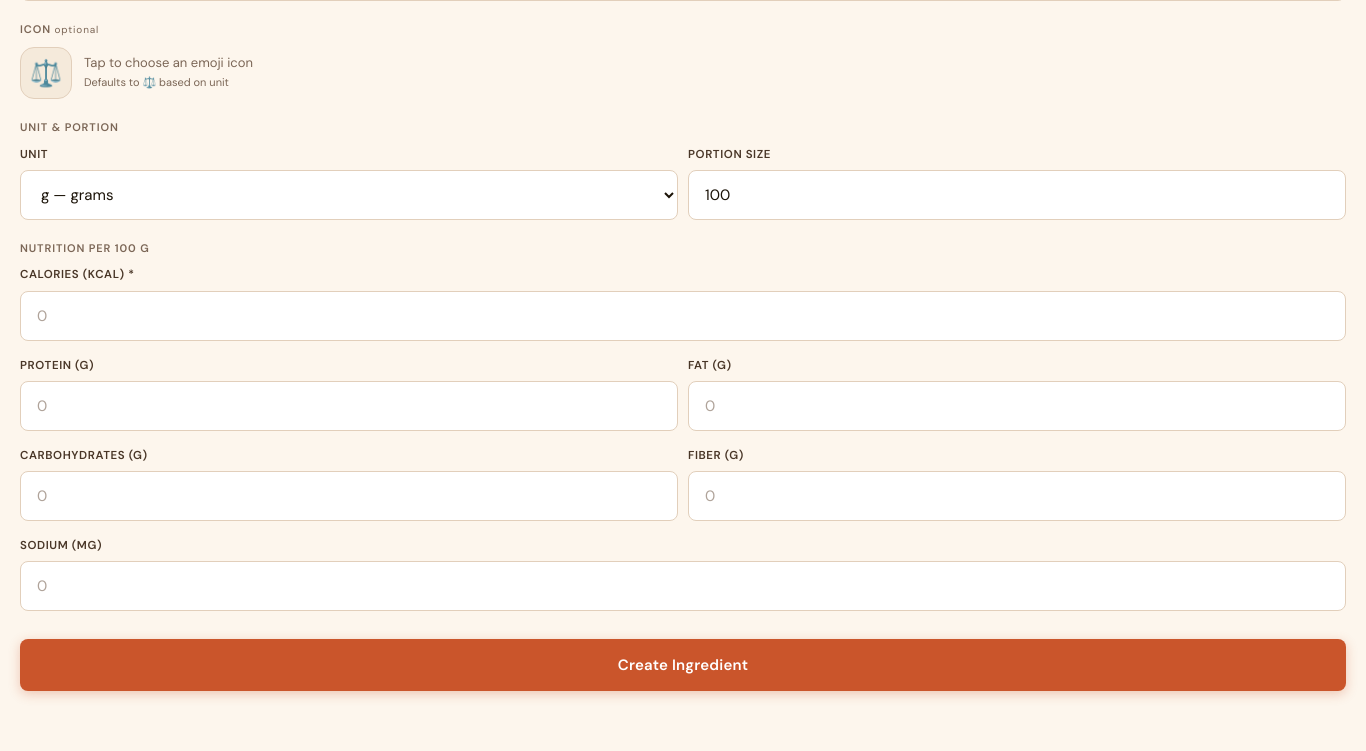
CustomIngredientFormPage — create form › shows validation errors when submitting an empty form
(page scrolled)
Click the button "Create Ingredient". click: [683, 665]
box: 20,639 -> 1346,691
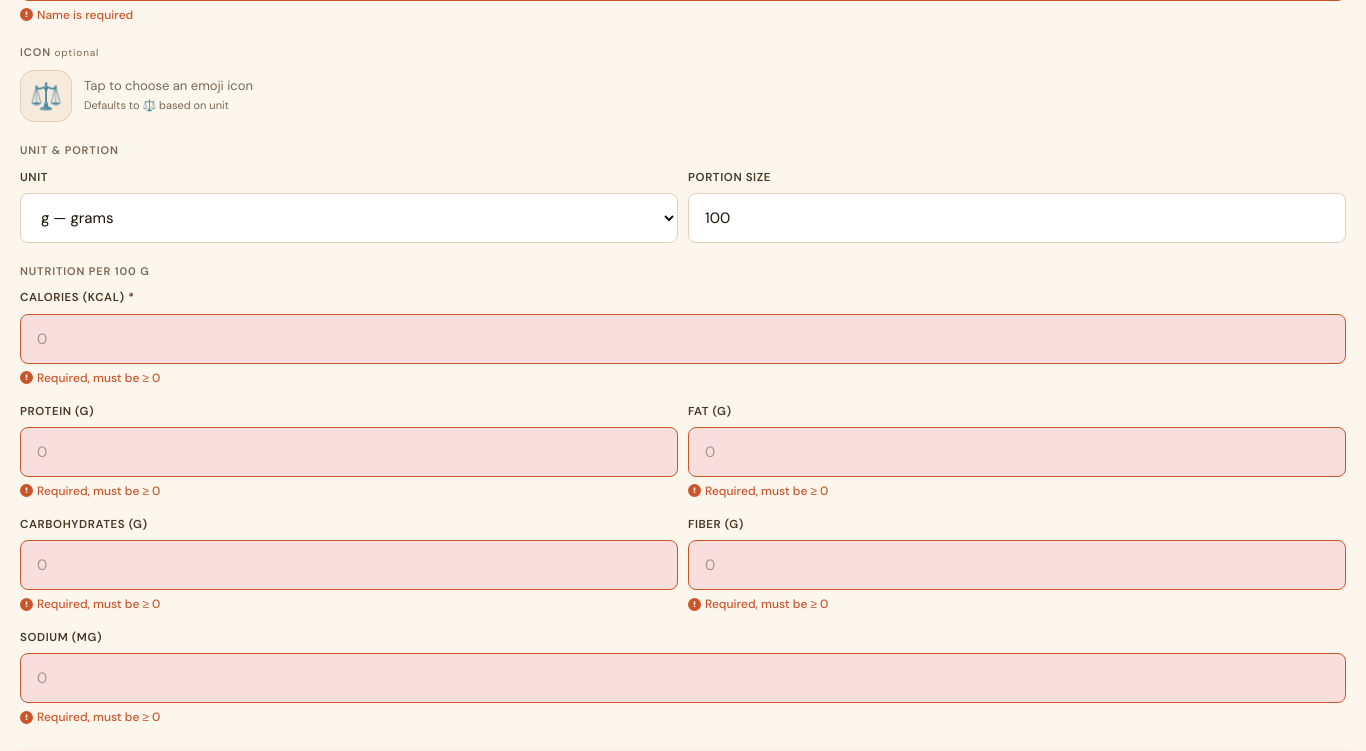
expect the text "Name is required" is shown: met, box 20,6 -> 133,22
